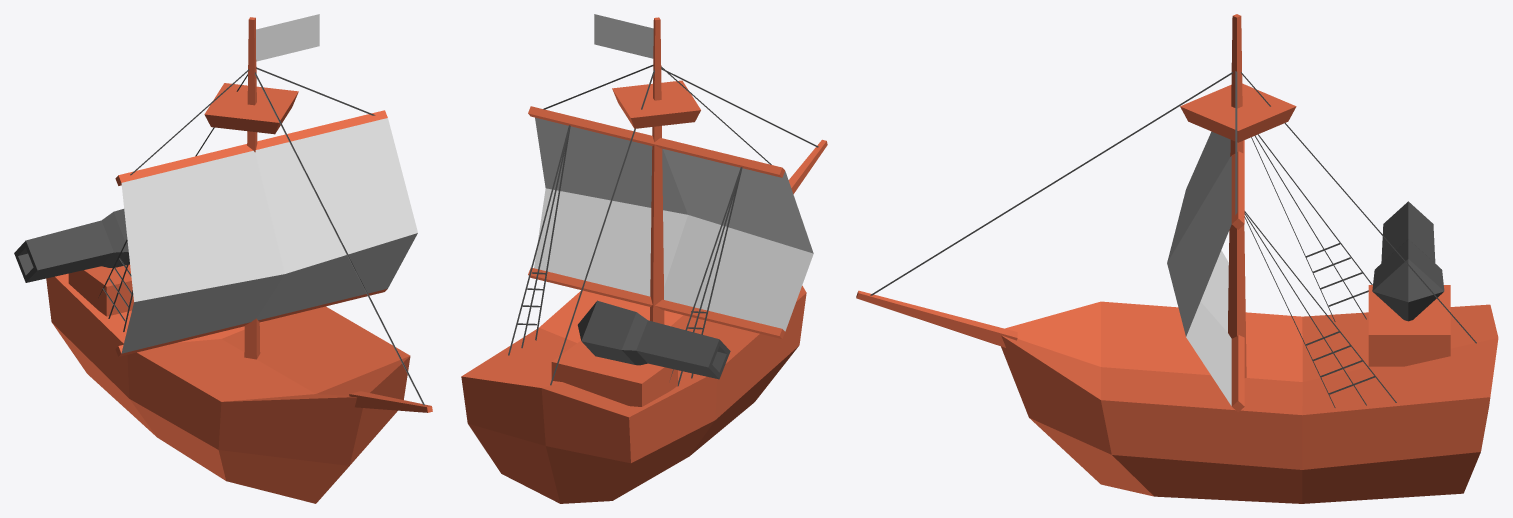
Rendered from ship.fbx.
3 views of the same model, side by side, from view 1: azimuth 30°, elevation 25°; view 2: azimuth 150°, elevation 25°; view 3: azimuth 270°, elevation 25° (orthographic). The views are drawn at different scales.
Parts seen in each view (by area): view 1: boat, cloth, cannon.001, ropes; view 2: boat, cloth, cannon.001, ropes; view 3: boat, cloth, cannon.001, ropes.
Boxes of the visible parts, x1,y1,x2,y2 form: boat: [46, 17, 432, 503]; cloth: [121, 14, 417, 353]; cannon.001: [14, 209, 129, 282]; ropes: [98, 67, 424, 405]; boat: [461, 17, 827, 503]; cloth: [534, 14, 813, 331]; cannon.001: [577, 300, 730, 379]; ropes: [508, 65, 818, 386]; boat: [856, 14, 1498, 503]; cloth: [1167, 131, 1231, 405]; cannon.001: [1372, 201, 1444, 321]; ropes: [870, 71, 1476, 407].
Bounding box in the file's own units: 218 × 322 × 394.
